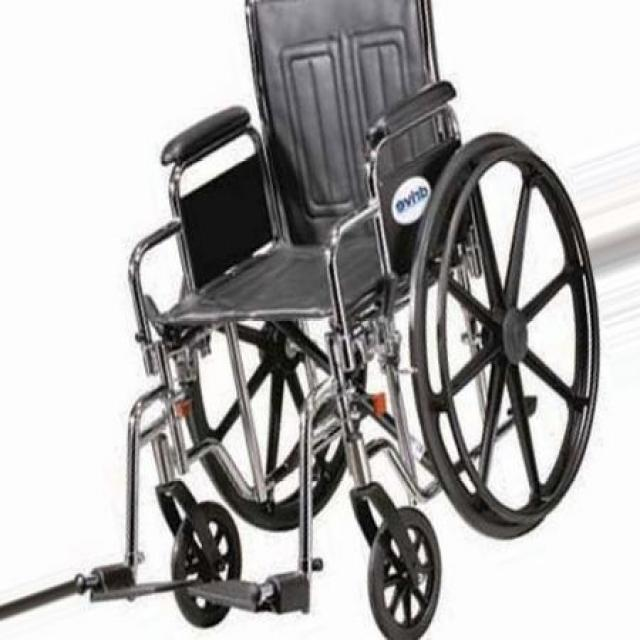wheelchair: (42, 0, 610, 640)
